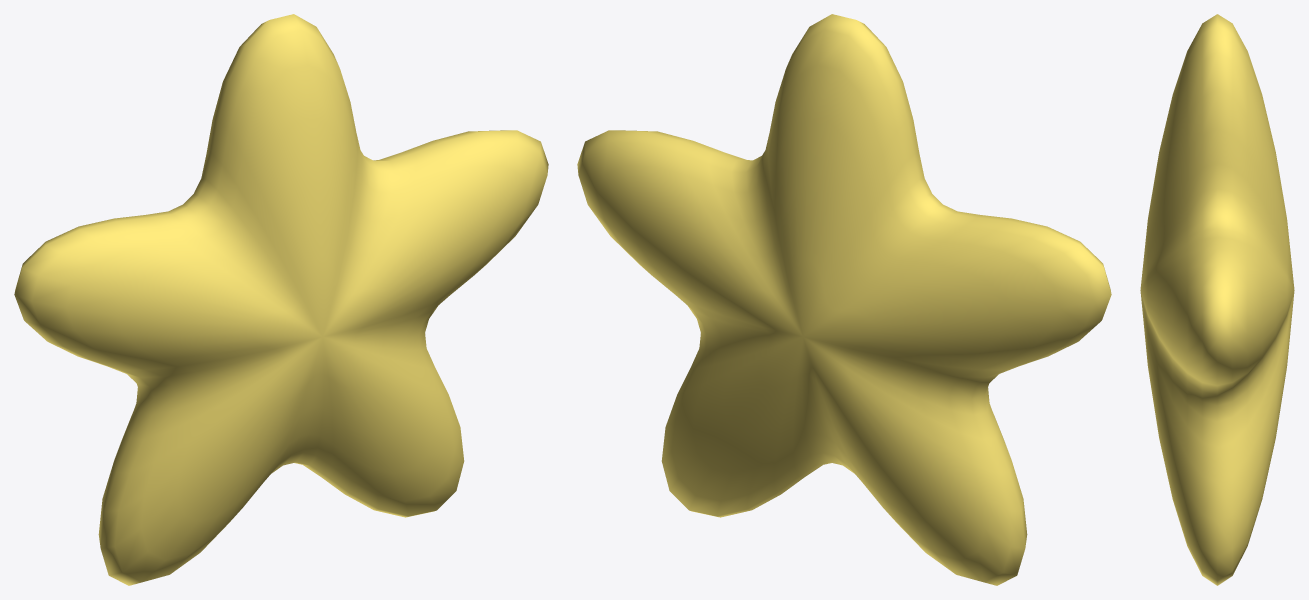
The model's file is star.glb.
3 views of the same model, side by side, from view 1: azimuth 30°, elevation 25°; view 2: azimuth 150°, elevation 25°; view 3: azimuth 270°, elevation 25° (orthographic). The views are drawn at different scales.
Visible parts, largest first — view 1: StarBody; view 2: StarBody; view 3: StarBody.
Boxes of the visible parts, bbox=[...] form: StarBody: bbox=[14, 14, 548, 585]; StarBody: bbox=[577, 14, 1111, 585]; StarBody: bbox=[1140, 14, 1294, 585].
Bounding box in the file's own units: 0.823 × 0.7827 × 0.22.
